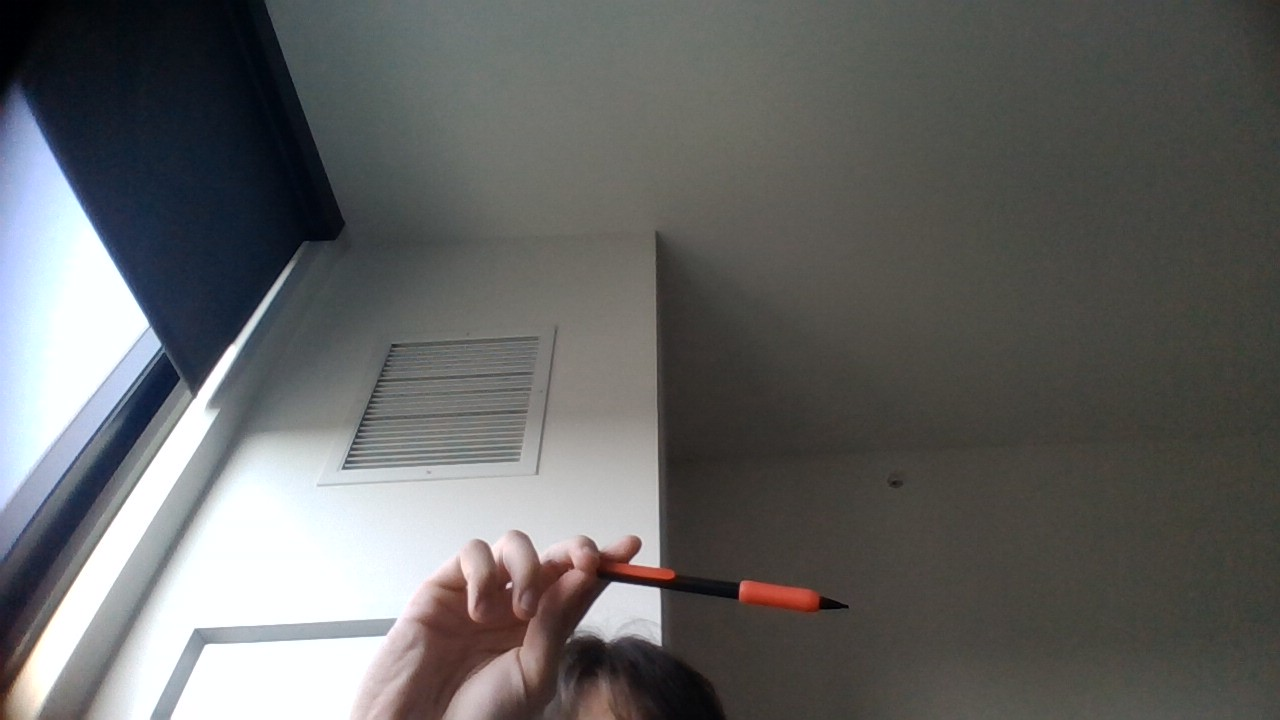Red Mechanical Pencil: (606, 559, 851, 606)
